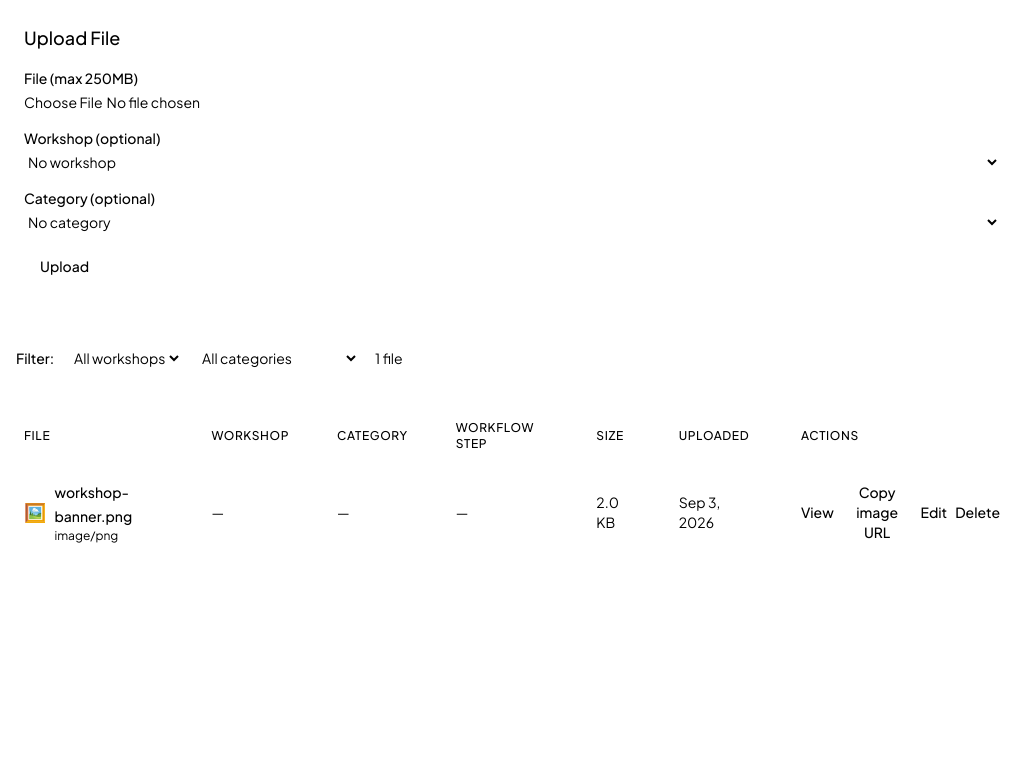
Test: FileManager image URLs › replaces stale success feedback when copying fails
Click the button "Copy image URL" at (877, 512), box [842,482,912,542]
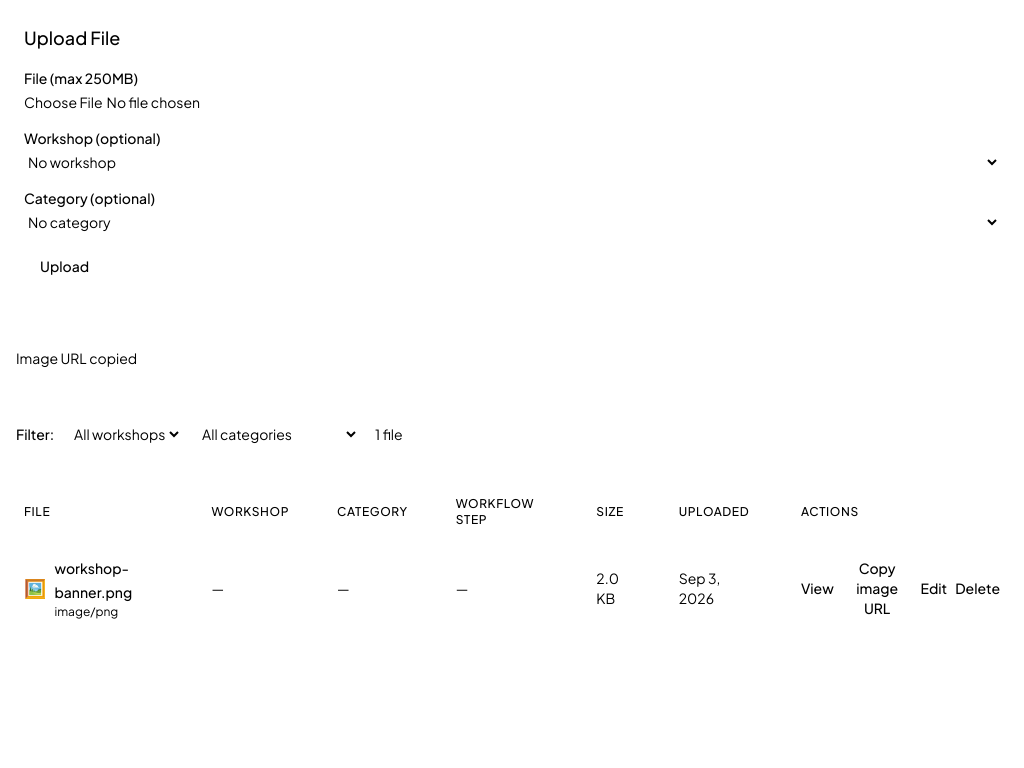
Check: the message reads "Image URL copied", box [16,349,137,367]
Click the button "Copy image URL" at (877, 588), box [842,558,912,618]
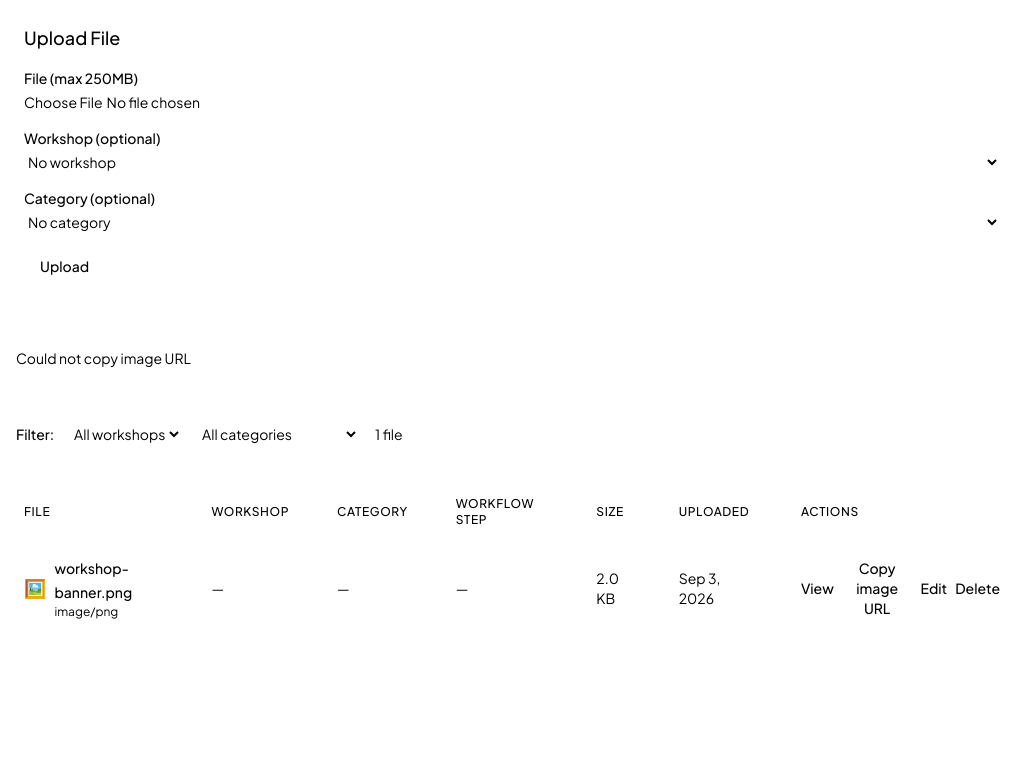
Check: the message reads "Could not copy image URL", box [16,349,191,367]
Check: the text "Image URL copied" is gone
